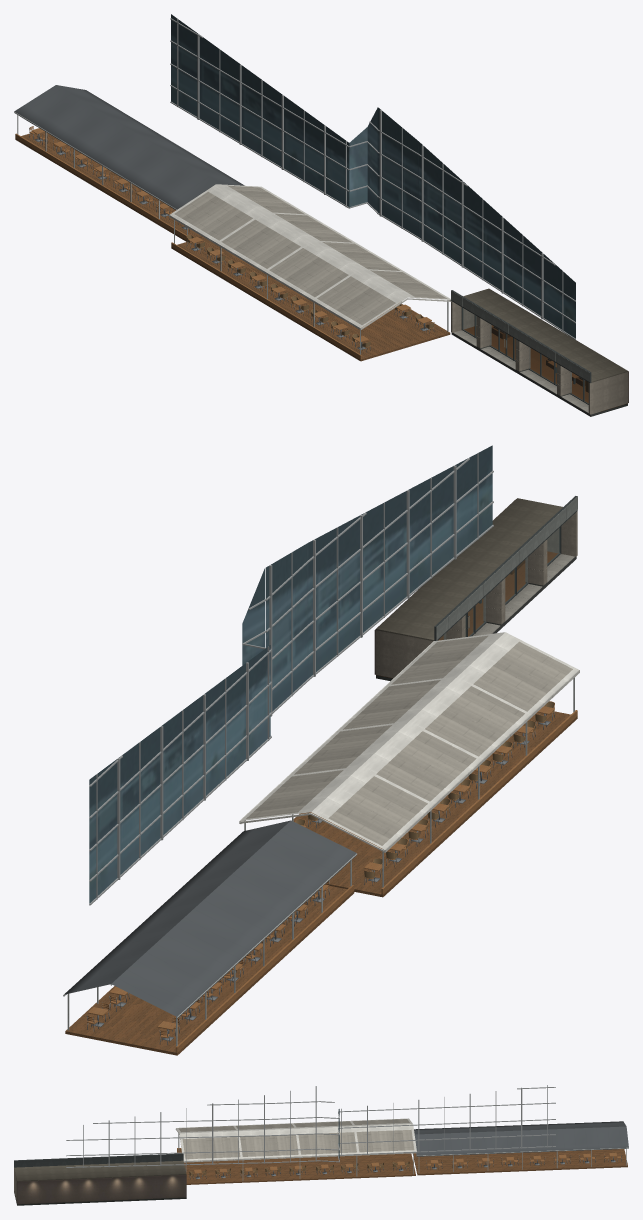
3 renders of one model, top to bottom at view 1: azimuth 30°, elevation 25°; view 2: azimuth 150°, elevation 25°; view 3: azimuth 270°, elevation 25°, orthographic. The views are drawn at different scales.
Visible parts, largest first — view 1: One Fullerton laminated glazing, Roof infill, Charcoal, Recessed shop cladding, Deck, Anodised glazing bars, Pale roof trim, Teak, Courtyard entrance glass, Interior timber joinery, Metal, Cane (+3 smaller); view 2: One Fullerton laminated glazing, Charcoal, Roof infill, Recessed shop cladding, Deck, Pale roof trim, Anodised glazing bars, Teak, Metal, Canopy frame, Cane, Courtyard entrance glass (+2 smaller); view 3: Deck, Charcoal, Roof infill, Anodised glazing bars, Recessed shop cladding, Wall washed plaster, Pale roof trim, Teak, Metal, Canopy frame, Cane, Dining tables.
Part boxes in pixels (box(x1,y1,x2,y2)): One Fullerton laminated glazing: box(171, 14, 575, 338); Roof infill: box(174, 185, 447, 324); Charcoal: box(14, 85, 244, 210); Recessed shop cladding: box(451, 288, 627, 416); Deck: box(15, 132, 450, 361); Anodised glazing bars: box(170, 18, 575, 339); Pale roof trim: box(169, 184, 451, 330); Teak: box(15, 126, 434, 359); Courtyard entrance glass: box(463, 308, 587, 402); Interior timber joinery: box(464, 325, 627, 411); Metal: box(29, 128, 434, 352); Cane: box(187, 235, 434, 347); One Fullerton laminated glazing: box(89, 445, 492, 903); Charcoal: box(63, 820, 356, 1018); Roof infill: box(246, 635, 572, 845); Recessed shop cladding: box(376, 496, 577, 681); Deck: box(65, 711, 577, 1055); Pale roof trim: box(239, 632, 579, 852); Anodised glazing bars: box(89, 453, 493, 905); Teak: box(87, 701, 577, 1052); Metal: box(86, 712, 554, 1044); Canopy frame: box(63, 677, 574, 1046); Cane: box(295, 701, 554, 878); Courtyard entrance glass: box(439, 528, 559, 639); Deck: box(177, 1149, 627, 1184); Charcoal: box(414, 1121, 628, 1156); Roof infill: box(178, 1119, 414, 1159); Anodised glazing bars: box(66, 1085, 555, 1167); Recessed shop cladding: box(14, 1153, 186, 1205); Wall washed plaster: box(17, 1174, 186, 1204); Pale roof trim: box(175, 1118, 416, 1162); Teak: box(177, 1148, 621, 1175); Metal: box(189, 1155, 621, 1179); Canopy frame: box(178, 1133, 628, 1180); Cane: box(189, 1162, 409, 1175); Dining tables: box(194, 1161, 404, 1173).
Size of the model in its own units: 15.68 by 12.06 by 62.42.
Materials: 18 (12 with a texture image).
